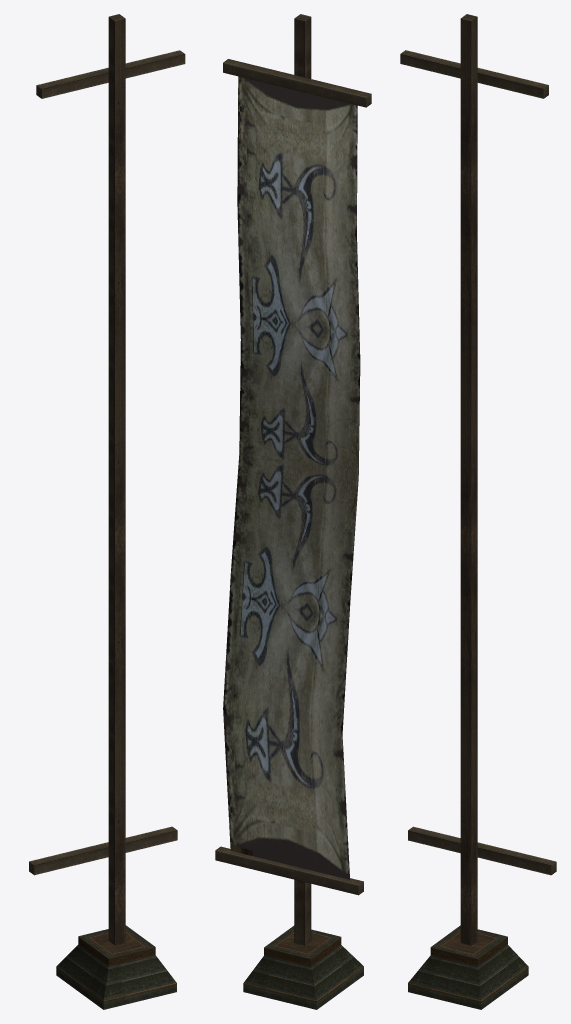
File: flag01.glb
3 views of the same model, side by side, from view 1: azimuth 30°, elevation 25°; view 2: azimuth 150°, elevation 25°; view 3: azimuth 330°, elevation 25° (orthographic).
Parts seen in each view (by area): view 1: flag01; view 2: flag01; view 3: flag01.
Boxes of the visible parts, x1,y1,x2,y2 form: flag01: (29,14,185,1009); flag01: (215,14,371,1009); flag01: (400,14,556,1009).
Size of the model in its own units: 2.64 by 15.77 by 1.4.
3 materials, 3 textured.
